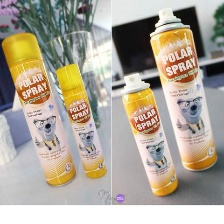aerosol_cans: (0, 30, 79, 191), (147, 5, 220, 174), (119, 68, 181, 198), (50, 58, 110, 183)
